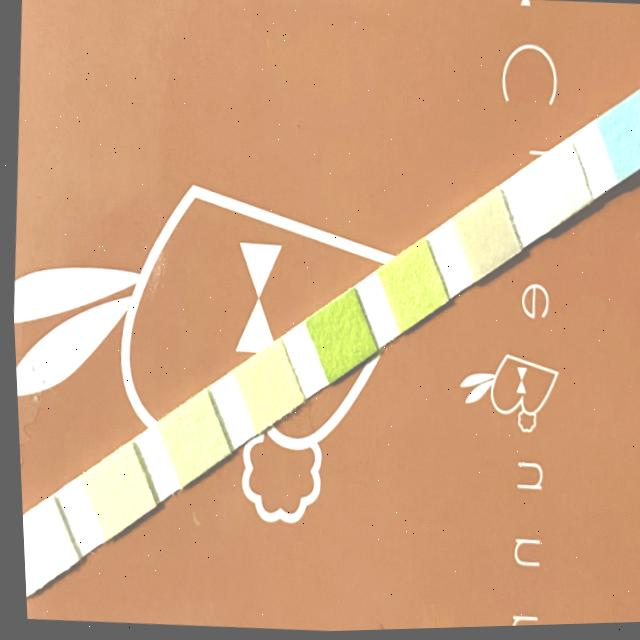Bilirubin: (534, 159, 577, 213)
Blood: (318, 305, 359, 366)
Glucose: (605, 109, 640, 167)
Ketone: (461, 208, 503, 263)
Nitrite: (18, 513, 55, 575)
Protein: (170, 407, 209, 467)
SpGravity: (390, 256, 428, 318)
Urobilinogen: (93, 459, 133, 521)
pH: (245, 356, 284, 417)
